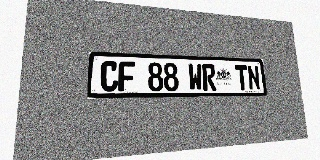8: (163, 63, 179, 91), (148, 62, 163, 91)
C: (100, 61, 118, 92)
F: (118, 61, 135, 91)
N: (247, 65, 261, 90)
R: (202, 64, 216, 91)
T: (235, 65, 249, 90)
W: (188, 63, 203, 91)
